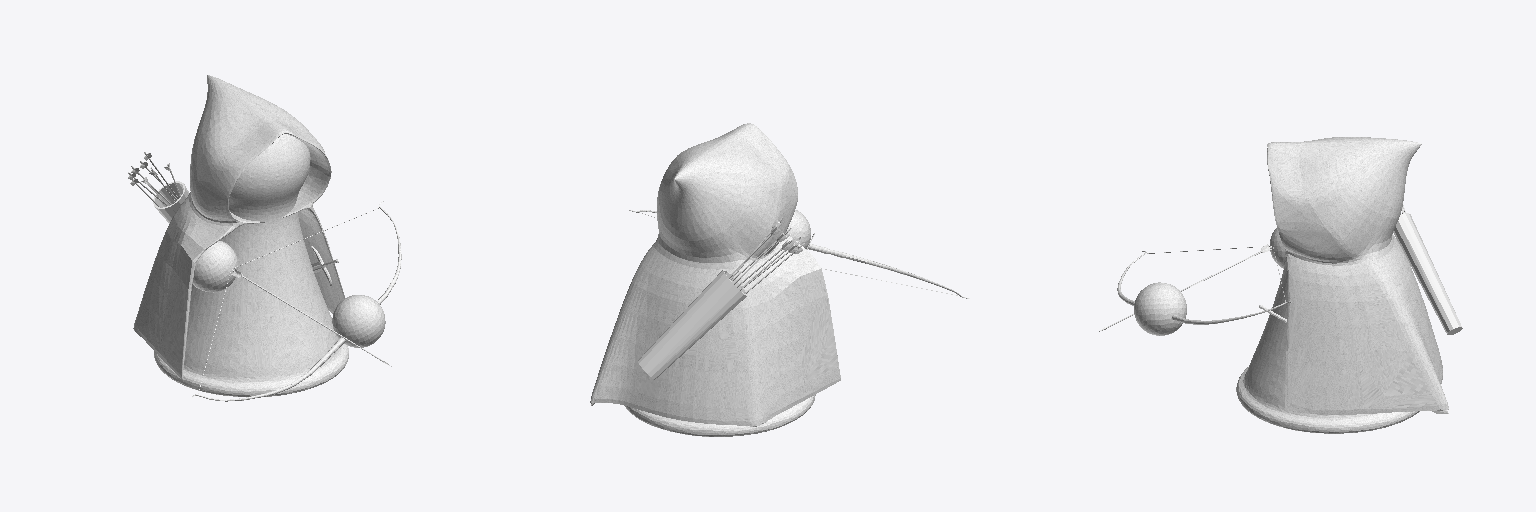
The picture shows the model from 3 angles: view 1: azimuth 30°, elevation 25°; view 2: azimuth 150°, elevation 25°; view 3: azimuth 270°, elevation 25°; orthographic projection.
Visible parts, largest first — view 1: Body, Cape, Hand2_Hand1.001, Hand1, Quiver, Bow; view 2: Cape, Quiver, Body, Bow, Hand2_Hand1.001; view 3: Cape, Body, Quiver, Hand2_Hand1.001, Bow.
Boxes of the visible parts, x1=… form: Body: x1=154, y1=134, x2=348, y2=396; Cape: x1=133, y1=75, x2=344, y2=378; Hand2_Hand1.001: x1=332, y1=295, x2=385, y2=347; Hand1: x1=193, y1=241, x2=238, y2=292; Quiver: x1=128, y1=152, x2=188, y2=223; Bow: x1=191, y1=201, x2=401, y2=401; Cape: x1=590, y1=123, x2=840, y2=426; Quiver: x1=638, y1=217, x2=804, y2=379; Body: x1=625, y1=395, x2=815, y2=436; Bow: x1=629, y1=210, x2=969, y2=298; Hand2_Hand1.001: x1=787, y1=210, x2=810, y2=248; Cape: x1=1267, y1=137, x2=1448, y2=414; Body: x1=1236, y1=261, x2=1419, y2=433; Quiver: x1=1393, y1=205, x2=1462, y2=334; Hand2_Hand1.001: x1=1134, y1=282, x2=1186, y2=335; Bow: x1=1099, y1=244, x2=1291, y2=331.
Bounding box in the file's own units: 0.924 × 0.8356 × 1.09.
Materials: 1 (1 with a texture image).